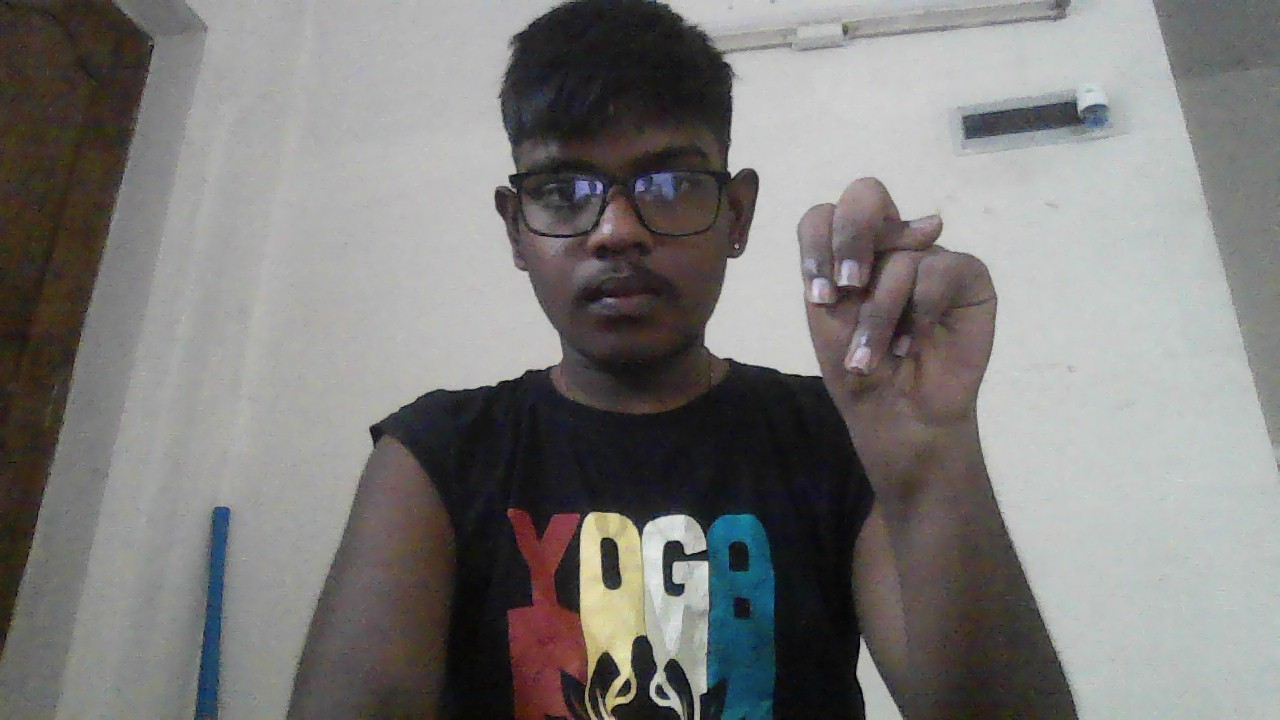N: (798, 175, 999, 434)
